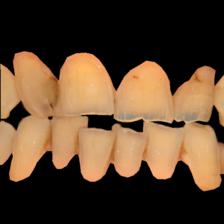cavity: (47, 77, 65, 110), (45, 126, 57, 150), (179, 142, 191, 160), (73, 134, 83, 154), (110, 91, 120, 110), (193, 75, 207, 88), (111, 139, 118, 162), (213, 84, 221, 102), (131, 73, 144, 84), (142, 143, 150, 160)
tooth: (113, 57, 176, 123), (60, 51, 116, 117), (12, 50, 57, 117), (9, 116, 50, 181), (172, 63, 217, 122), (184, 125, 224, 191), (143, 124, 183, 179), (80, 127, 114, 184), (114, 123, 149, 178), (53, 117, 82, 169)
